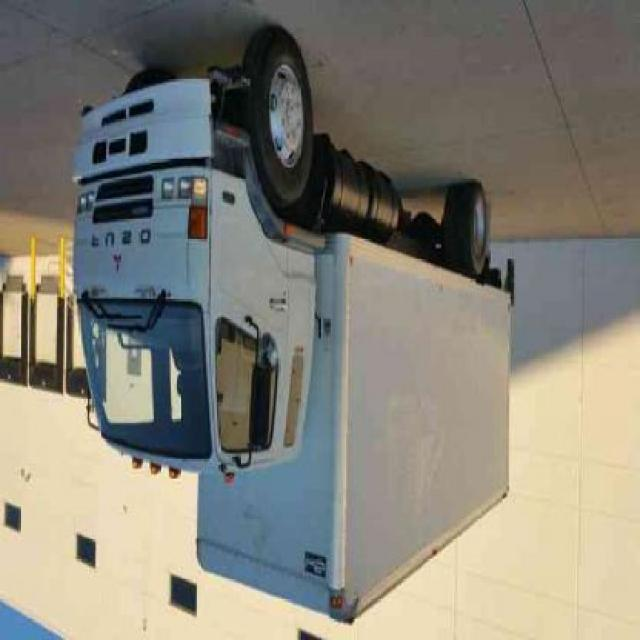truck: (70, 29, 515, 626)
